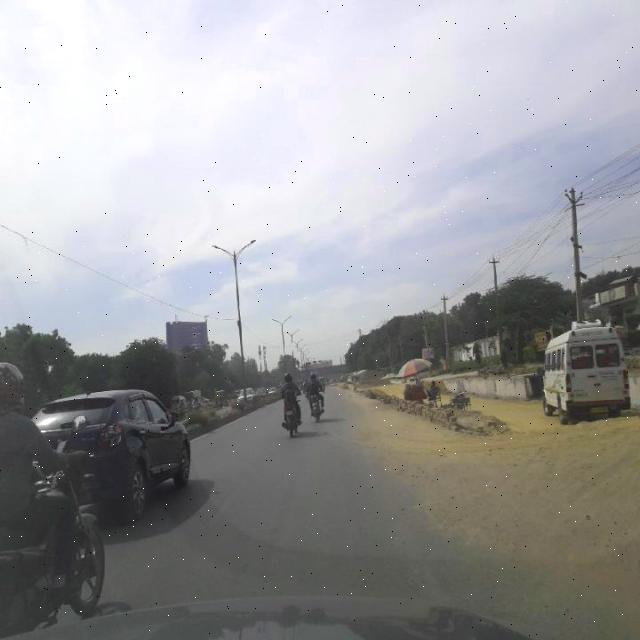D44: (193, 462, 251, 540)
